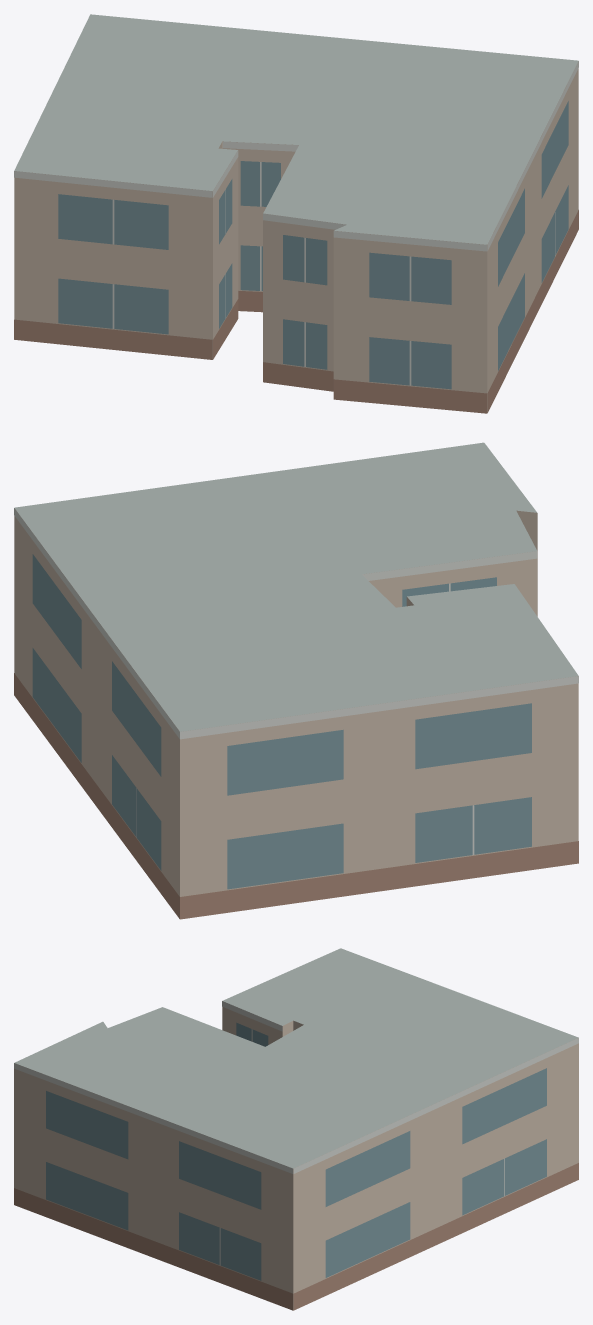
Rendered from survey-upis-32947585.glb.
The picture shows the model from 3 angles, top to bottom: view 1: azimuth 30°, elevation 25°; view 2: azimuth 150°, elevation 25°; view 3: azimuth 270°, elevation 25°; orthographic projection. The views are drawn at different scales.
Parts seen in each view (by area): view 1: survey-upis-32947585.tmp; view 2: survey-upis-32947585.tmp; view 3: survey-upis-32947585.tmp.
Boxes of the visible parts, bbox=[...] form: survey-upis-32947585.tmp: bbox=[14, 14, 578, 413]; survey-upis-32947585.tmp: bbox=[14, 442, 578, 919]; survey-upis-32947585.tmp: bbox=[14, 948, 578, 1310].
Size of the model in its own units: 20.3 by 6.1 by 21.98.
